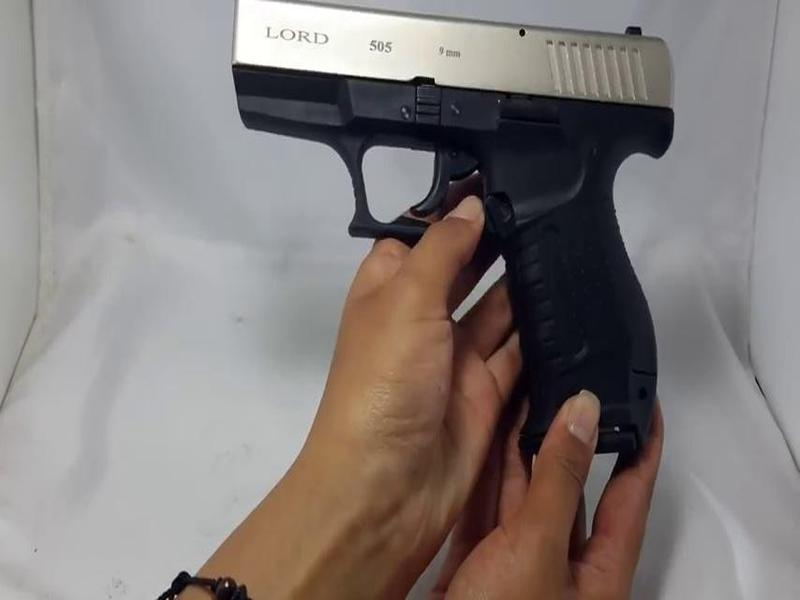Pistola: (192, 1, 688, 453)
